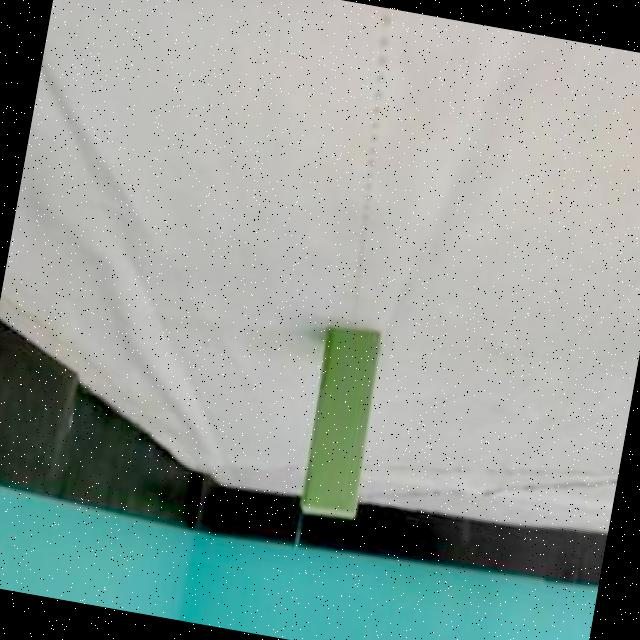greenbox: (294, 315, 389, 525)
